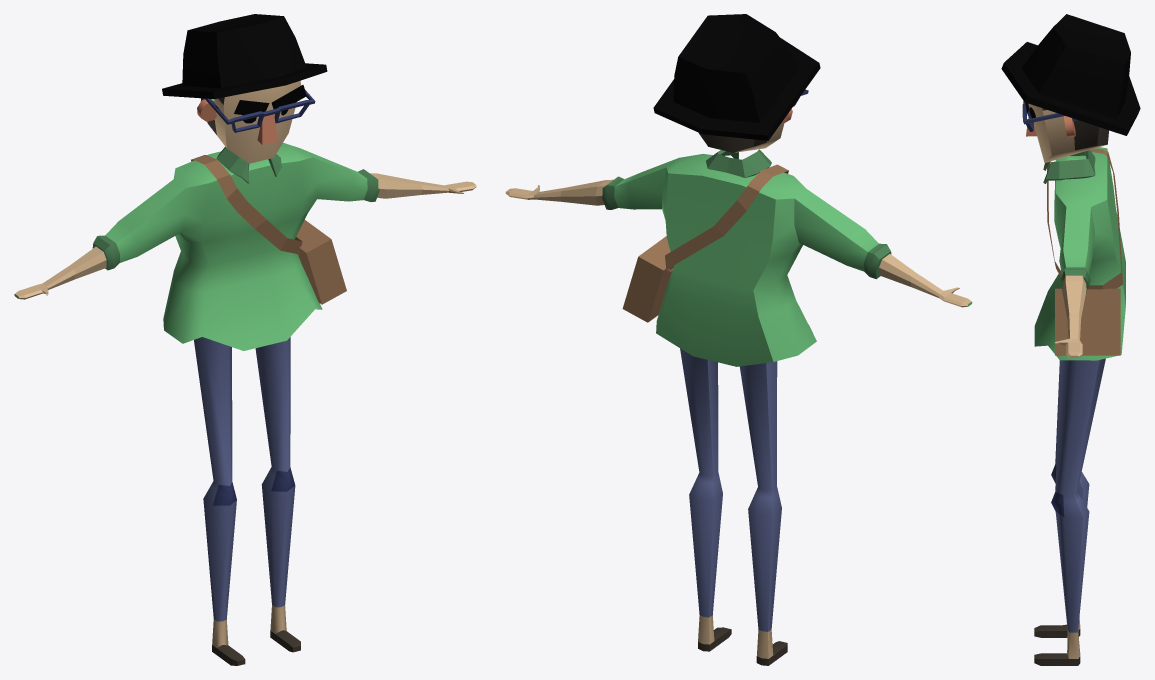
Rendered from SM_Paparazzi.FBX.
3 views of the same model, side by side, from view 1: azimuth 30°, elevation 25°; view 2: azimuth 150°, elevation 25°; view 3: azimuth 270°, elevation 25° (orthographic).
Visible parts, largest first — view 1: Box002, Box001, Box003, Box007; view 2: Box002, Box001, Box003, Box007; view 3: Box003, Box002, Box001, Box007.
Boxes of the visible parts, box(x1,y1,x2,y2) form: Box002: box(14, 142, 476, 350); Box001: box(194, 337, 300, 665); Box003: box(162, 14, 327, 163); Box007: box(296, 220, 346, 304); Box002: box(505, 149, 972, 366); Box001: box(680, 348, 787, 665); Box003: box(653, 14, 820, 152); Box007: box(622, 236, 673, 322); Box003: box(1001, 14, 1140, 162); Box002: box(1034, 147, 1125, 360); Box001: box(1034, 358, 1105, 665); Box007: box(1055, 288, 1120, 355).
Size of the model in its own units: 27.77 by 36.43 by 7.39.
